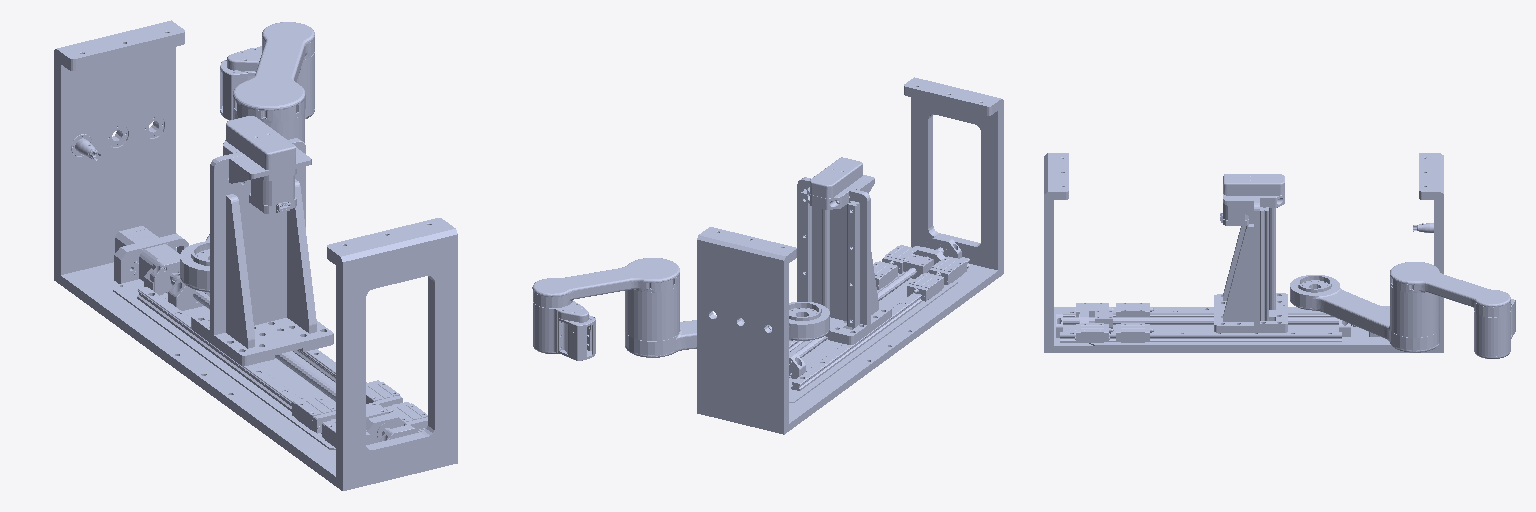
The robot description file, URDF, robot "solid_urdf7":
<?xml version="1.0" encoding="utf-8" ?>
<!-- This URDF was automatically created by SolidWorks to URDF Exporter! Originally created by [author] ([email redacted]) 
     Commit Version: 1.6.0-4-g7f85cfe  Build Version: 1.6.7995.38578
     For more information, please see http://wiki.ros.org/sw_urdf_exporter -->
<robot name="solid_urdf7">
    <link name="base_link">
        <inertial>
            <origin xyz="-0.0245933742450568 0.0350045310290852 0.0635369268324612" rpy="0 0 0" />
            <mass value="4.14370920359316" />
            <inertia ixx="0.091443776988552" ixy="0.000176600024775122" ixz="-0.000131694181645991" iyy="0.0188350200711009" iyz="6.88890056481234E-05" izz="0.0854510530052889" />
        </inertial>
        <visual>
            <origin xyz="0 0 0" rpy="0 0 0" />
            <geometry>
                <mesh filename="package://solid_urdf7/meshes/base_link.STL" />
            </geometry>
            <material name="">
                <color rgba="0.792156862745098 0.819607843137255 0.933333333333333 1" />
            </material>
        </visual>
        <collision>
            <origin xyz="0 0 0" rpy="0 0 0" />
            <geometry>
                <mesh filename="package://solid_urdf7/meshes/base_link.STL" />
            </geometry>
        </collision>
    </link>
    <link name="Link1">
        <inertial>
            <origin xyz="-0.329884879501782 1.21048163975908E-07 0.121047906359846" rpy="0 0 0" />
            <mass value="0.822812108125689" />
            <inertia ixx="0.00221804839554252" ixy="-1.01078079006181E-09" ixz="-2.41884807286417E-05" iyy="0.00191565727235647" iyz="-4.1887105090588E-11" izz="0.000803321128449691" />
        </inertial>
        <visual>
            <origin xyz="0 0 0" rpy="0 0 0" />
            <geometry>
                <mesh filename="package://solid_urdf7/meshes/Link1.STL" />
            </geometry>
            <material name="">
                <color rgba="0.792156862745098 0.819607843137255 0.933333333333333 1" />
            </material>
        </visual>
        <collision>
            <origin xyz="0 0 0" rpy="0 0 0" />
            <geometry>
                <mesh filename="package://solid_urdf7/meshes/Link1.STL" />
            </geometry>
        </collision>
    </link>
    <joint name="Joint1" type="prismatic">
        <origin xyz="-0.00496392831089532 0.164485716155103 0.0289999999999957" rpy="0 0 1.57079632679491" />
        <parent link="base_link" />
        <child link="Link1" />
        <axis xyz="1 0 0" />
        <limit lower="0.025" upper="0.355" effort="100" velocity="1" />
    </joint>
    <link name="Link2">
        <inertial>
            <origin xyz="0.0411425225707501 2.58311915927205E-05 0.109152727334026" rpy="0 0 0" />
            <mass value="0.725556260367522" />
            <inertia ixx="0.000853382571472089" ixy="-2.42617928867294E-07" ixz="4.44868001434534E-06" iyy="0.00055443306933169" iyz="4.04716862847513E-09" izz="0.000810624369097979" />
        </inertial>
        <visual>
            <origin xyz="0 0 0" rpy="0 0 0" />
            <geometry>
                <mesh filename="package://solid_urdf7/meshes/Link2.STL" />
            </geometry>
            <material name="">
                <color rgba="0.792156862745098 0.819607843137255 0.933333333333333 1" />
            </material>
        </visual>
        <collision>
            <origin xyz="0 0 0" rpy="0 0 0" />
            <geometry>
                <mesh filename="package://solid_urdf7/meshes/Link2.STL" />
            </geometry>
        </collision>
    </link>
    <joint name="Joint2" type="prismatic">
        <origin xyz="-0.29851 0 0" rpy="0 0 0" />
        <parent link="Link1" />
        <child link="Link2" />
        <axis xyz="0 0 1" />
        <limit lower="0" upper="0.11" effort="100" velocity="1" />
    </joint>
    <link name="Link3">
        <inertial>
            <origin xyz="0.100317010737464 -0.100353589557909 -0.00204841881031985" rpy="0 0 0" />
            <mass value="0.436344593638836" />
            <inertia ixx="0.00169890424842111" ixy="0.0014195377184802" ixz="-1.52926614905005E-06" iyy="0.00169715894808425" iyz="1.52982376885587E-06" izz="0.00326284848684017" />
        </inertial>
        <visual>
            <origin xyz="0 0 0" rpy="0 0 0" />
            <geometry>
                <mesh filename="package://solid_urdf7/meshes/Link3.STL" />
            </geometry>
            <material name="">
                <color rgba="0.792156862745098 0.819607843137255 0.933333333333333 1" />
            </material>
        </visual>
        <collision>
            <origin xyz="0 0 0" rpy="0 0 0" />
            <geometry>
                <mesh filename="package://solid_urdf7/meshes/Link3.STL" />
            </geometry>
        </collision>
    </link>
    <joint name="Joint3" type="revolute">
        <origin xyz="0.069 0 0.065203" rpy="0 0 0" />
        <parent link="Link2" />
        <child link="Link3" />
        <axis xyz="0 0 -1" />
        <limit lower="-0.73532" upper="0.2914" effort="100" velocity="1" />
    </joint>
    <link name="Link4">
        <inertial>
            <origin xyz="0.0593448802080937 -0.0460023026445955 -0.00895245374050438" rpy="0 0 0" />
            <mass value="0.129419998987082" />
            <inertia ixx="0.000266498325761937" ixy="0.000279714872452432" ixz="5.0549638447421E-06" iyy="0.000410515866739121" iyz="-3.91845051280771E-06" izz="0.000673533966909201" />
        </inertial>
        <visual>
            <origin xyz="0 0 0" rpy="0 0 0" />
            <geometry>
                <mesh filename="package://solid_urdf7/meshes/Link4.STL" />
            </geometry>
            <material name="">
                <color rgba="0.792156862745098 0.819607843137255 0.933333333333333 1" />
            </material>
        </visual>
        <collision>
            <origin xyz="0 0 0" rpy="0 0 0" />
            <geometry>
                <mesh filename="package://solid_urdf7/meshes/Link4.STL" />
            </geometry>
        </collision>
    </link>
    <joint name="Joint4" type="revolute">
        <origin xyz="0.1626 -0.16266 0.0997" rpy="0 0 0" />
        <parent link="Link3" />
        <child link="Link4" />
        <axis xyz="0 0 -1" />
        <limit lower="-3.14" upper="3.14" effort="100" velocity="1" />
    </joint>
    <link name="Link5">
        <inertial>
            <origin xyz="0.0044441 0.016507 0.043188" rpy="0 0 0" />
            <mass value="0.19742" />
            <inertia ixx="7.8383E-05" ixy="-1.3369E-07" ixz="2.2803E-08" iyy="7.7753E-05" iyz="2.3018E-07" izz="8.7086E-05" />
        </inertial>
        <visual>
            <origin xyz="0 0 0" rpy="0 0 0" />
            <geometry>
                <mesh filename="package://solid_urdf7/meshes/Link5.STL" />
            </geometry>
            <material name="">
                <color rgba="0.79216 0.81961 0.93333 1" />
            </material>
        </visual>
        <collision>
            <origin xyz="0 0 0" rpy="0 0 0" />
            <geometry>
                <mesh filename="package://solid_urdf7/meshes/Link5.STL" />
            </geometry>
        </collision>
    </link>
    <joint name="Joint5" type="revolute">
        <origin xyz="0.12646 -0.098025 -0.099301" rpy="0 0 0" />
        <parent link="Link4" />
        <child link="Link5" />
        <axis xyz="0 0 1" />
        <limit lower="-3.14" upper="3.14" effort="100" velocity="1" />
    </joint>
    <transmission name="trans_Joint1">
        <type>transmission_interface/SimpleTransmission</type>
        <joint name="Joint1">
            <hardwareInterface>hardware_interface/PositionJointInterface</hardwareInterface>
        </joint>
        <actuator name="Joint1_motor">
            <hardwareInterface>hardware_interface/PositionJointInterface</hardwareInterface>
            <mechanicalReduction>1</mechanicalReduction>
        </actuator>
    </transmission>
    <transmission name="trans_Joint2">
        <type>transmission_interface/SimpleTransmission</type>
        <joint name="Joint2">
            <hardwareInterface>hardware_interface/PositionJointInterface</hardwareInterface>
        </joint>
        <actuator name="Joint2_motor">
            <hardwareInterface>hardware_interface/PositionJointInterface</hardwareInterface>
            <mechanicalReduction>1</mechanicalReduction>
        </actuator>
    </transmission>
    <transmission name="trans_Joint3">
        <type>transmission_interface/SimpleTransmission</type>
        <joint name="Joint3">
            <hardwareInterface>hardware_interface/PositionJointInterface</hardwareInterface>
        </joint>
        <actuator name="Joint3_motor">
            <hardwareInterface>hardware_interface/PositionJointInterface</hardwareInterface>
            <mechanicalReduction>1</mechanicalReduction>
        </actuator>
    </transmission>
    <transmission name="trans_Joint4">
        <type>transmission_interface/SimpleTransmission</type>
        <joint name="Joint4">
            <hardwareInterface>hardware_interface/PositionJointInterface</hardwareInterface>
        </joint>
        <actuator name="Joint4_motor">
            <hardwareInterface>hardware_interface/PositionJointInterface</hardwareInterface>
            <mechanicalReduction>1</mechanicalReduction>
        </actuator>
    </transmission>
    <transmission name="trans_Joint5">
        <type>transmission_interface/SimpleTransmission</type>
        <joint name="Joint5">
            <hardwareInterface>hardware_interface/PositionJointInterface</hardwareInterface>
        </joint>
        <actuator name="Joint5_motor">
            <hardwareInterface>hardware_interface/PositionJointInterface</hardwareInterface>
            <mechanicalReduction>1</mechanicalReduction>
        </actuator>
    </transmission>
    <gazebo>
        <plugin name="gazebo_ros_control"  filename="libgazebo_ros_control.so">
        
        <plugin name="joint_state_publisher" filename="libgazebo_ros_joint_state_publisher.so">
            <jointName>Joint1,Joint2,Joint3,Joint4,Joint5</jointName>
        </plugin>

            <robotNamespace>/</robotNamespace>
        </plugin>
    </gazebo>
</robot>

--- Render facts (derived) ---
3 views of the same robot in one strip: view 1: azimuth 30°, elevation 25°; view 2: azimuth 150°, elevation 25°; view 3: azimuth 270°, elevation 25° (orthographic).
Robot: solid_urdf7 — 6 links, 5 joints (3 revolute, 2 prismatic); root link base_link; default pose: joints at zero except 1 at the middle of their limits (Joint1 = 0.19).
Visible links, largest first — view 1: base_link, Link1, Link4, Link5, Link3; view 2: base_link, Link1, Link3, Link4, Link5; view 3: base_link, Link1, Link3, Link4, Link5.
Boxes of the visible links, box(x1,y1,x2,y2) form: base_link: box(54, 20, 457, 490); Link1: box(191, 116, 333, 365); Link4: box(233, 22, 314, 122); Link5: box(220, 46, 314, 120); Link3: box(180, 111, 304, 292); base_link: box(697, 77, 1003, 434); Link1: box(797, 157, 891, 344); Link3: box(625, 283, 829, 357); Link4: box(532, 258, 679, 307); Link5: box(533, 301, 595, 360); base_link: box(1044, 153, 1443, 352); Link1: box(1214, 174, 1287, 332); Link3: box(1290, 275, 1439, 352); Link4: box(1390, 262, 1510, 317); Link5: box(1474, 299, 1515, 358).
Bounding box of the posed robot: 0.3807 × 0.767 × 0.2895 m (x, y, z).
Meshes: 6 distinct files referenced, 5 mesh visuals loaded (5 binary STL); not drawn: 1 (reference not matched to a file when rendering).